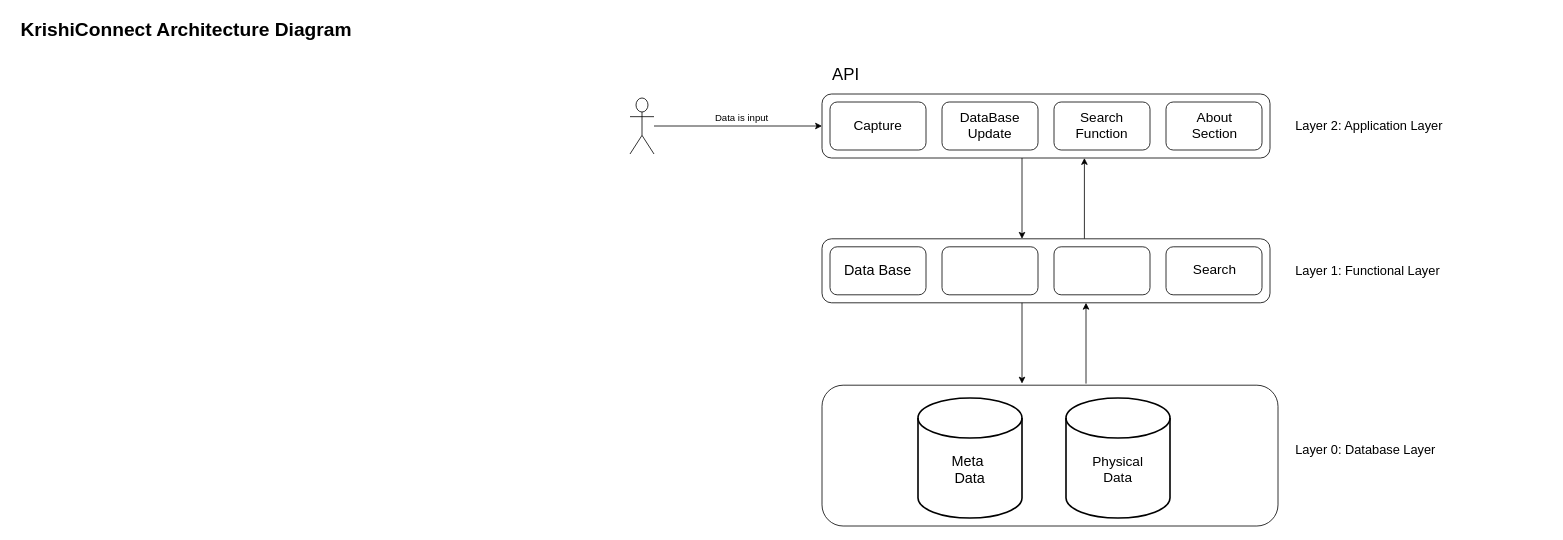
Image size: 1563x540. Some labels were removed from this diagram. Here are the shapes that lost their labels. From the top down, the centre of each, then its label:
At pixel 641 125: "Client".
At pixel 989 270: "Query".
At pixel 1101 270: "Organise Data".
